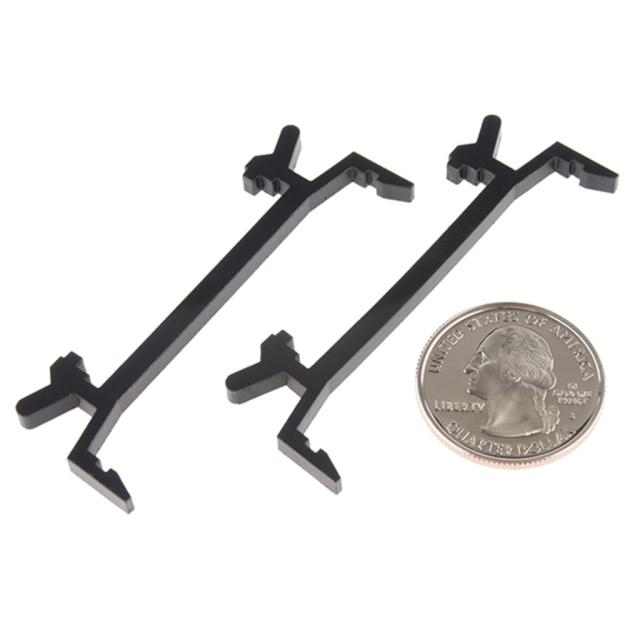Coin: (413, 298, 608, 467)
